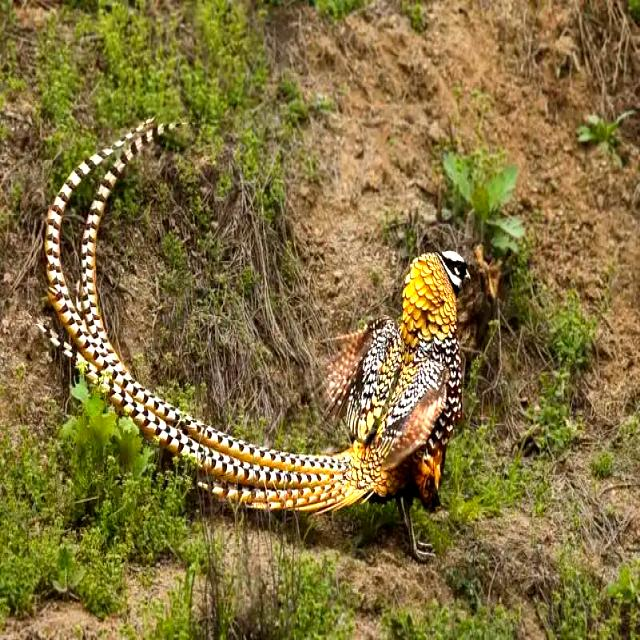Reeves-s Pheasant: (35, 114, 353, 518)
